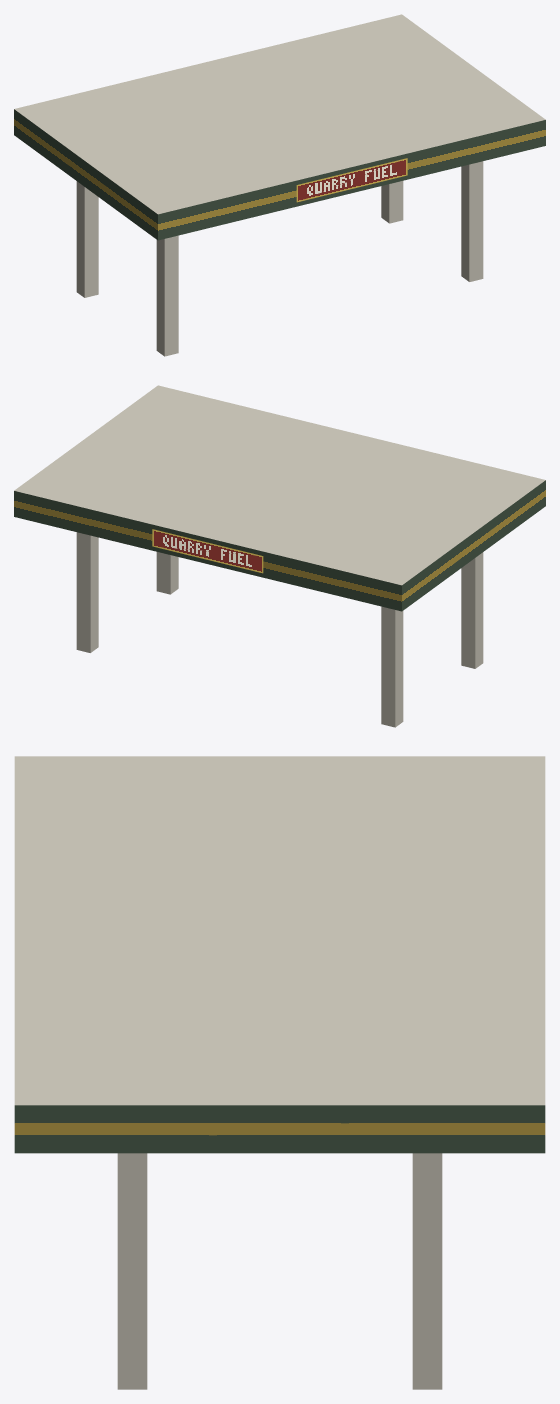
The model's file is COM_GasCanopy.glb.
The picture shows the model from 3 angles, top to bottom: view 1: azimuth 30°, elevation 25°; view 2: azimuth 150°, elevation 25°; view 3: azimuth 270°, elevation 25°; orthographic projection. The views are drawn at different scales.
Parts seen in each view (by area): view 1: COM_GasCanopy_Mesh; view 2: COM_GasCanopy_Mesh; view 3: COM_GasCanopy_Mesh.
Boxes of the visible parts, <box> form: COM_GasCanopy_Mesh: <box>14,14,545,356</box>; COM_GasCanopy_Mesh: <box>14,385,545,727</box>; COM_GasCanopy_Mesh: <box>14,756,545,1389</box>.
Size of what is drawn, in the model's own units: 14 by 5.9 by 9.02.
Materials: 2 (2 with a texture image).
